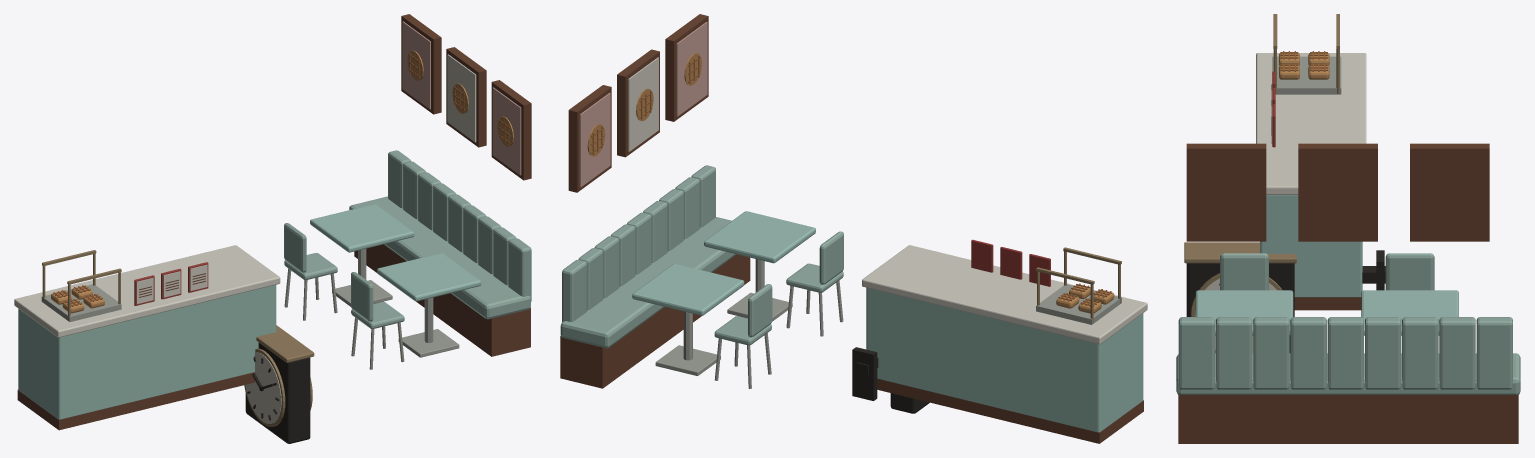
Rendered from gallery.glb.
The picture shows the model from 3 angles, left to right: view 1: azimuth 30°, elevation 25°; view 2: azimuth 150°, elevation 25°; view 3: azimuth 270°, elevation 25°; orthographic projection. The views are drawn at different scales.
Visible parts, largest first — view 1: Wafille, GalleryClock; view 2: Wafille, GalleryClock; view 3: Wafille, GalleryClock.
Boxes of the visible parts, left/top/right/bottom form: Wafille: left=14, top=14, right=531, bottom=430; GalleryClock: left=244, top=325, right=314, bottom=443; Wafille: left=560, top=14, right=1147, bottom=443; GalleryClock: left=852, top=347, right=929, bottom=413; Wafille: left=1176, top=14, right=1520, bottom=443; GalleryClock: left=1184, top=242, right=1385, bottom=353.
Size of the model in its own units: 4.97 by 3.01 by 2.68.
